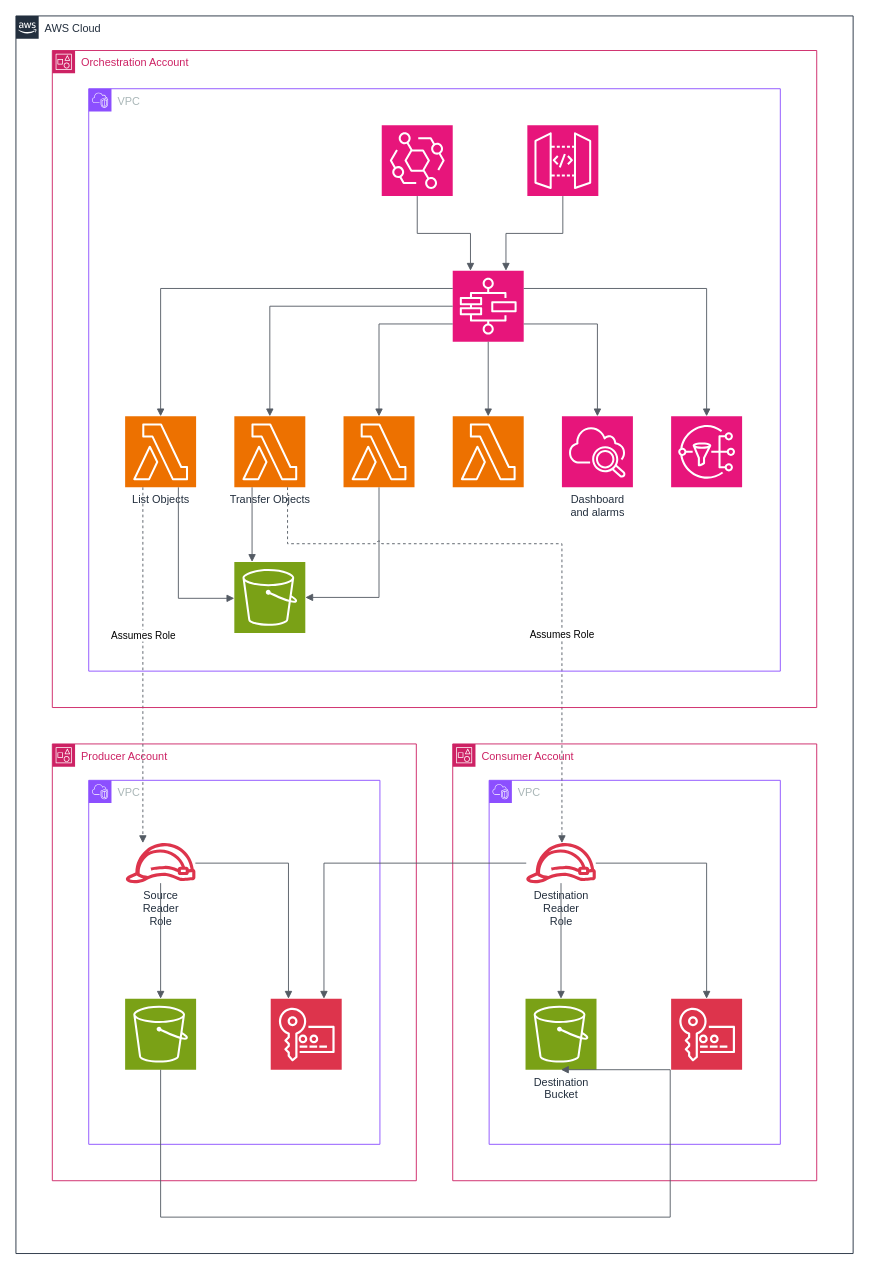
Image size: 869x1269. Some labels were removed from this diagram. Each missing label, with the centre of its shape:
"Destination Key" goes at (x=706, y=1034).
"Generate Report" goes at (x=488, y=451).
"Manifest Bucket" goes at (x=269, y=597).
"Source Bucket" goes at (x=160, y=1034).
"Source Key" goes at (x=306, y=1034).
"Validate Transfer" goes at (x=379, y=451).
